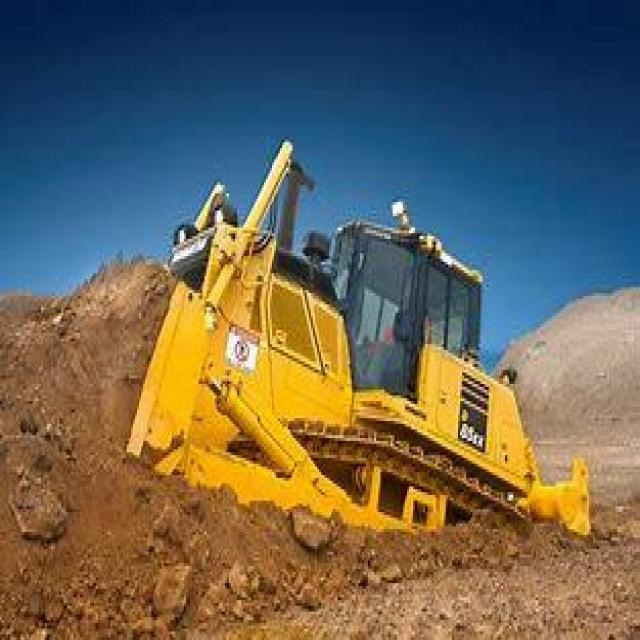Bulldozer: (86, 114, 591, 600)
